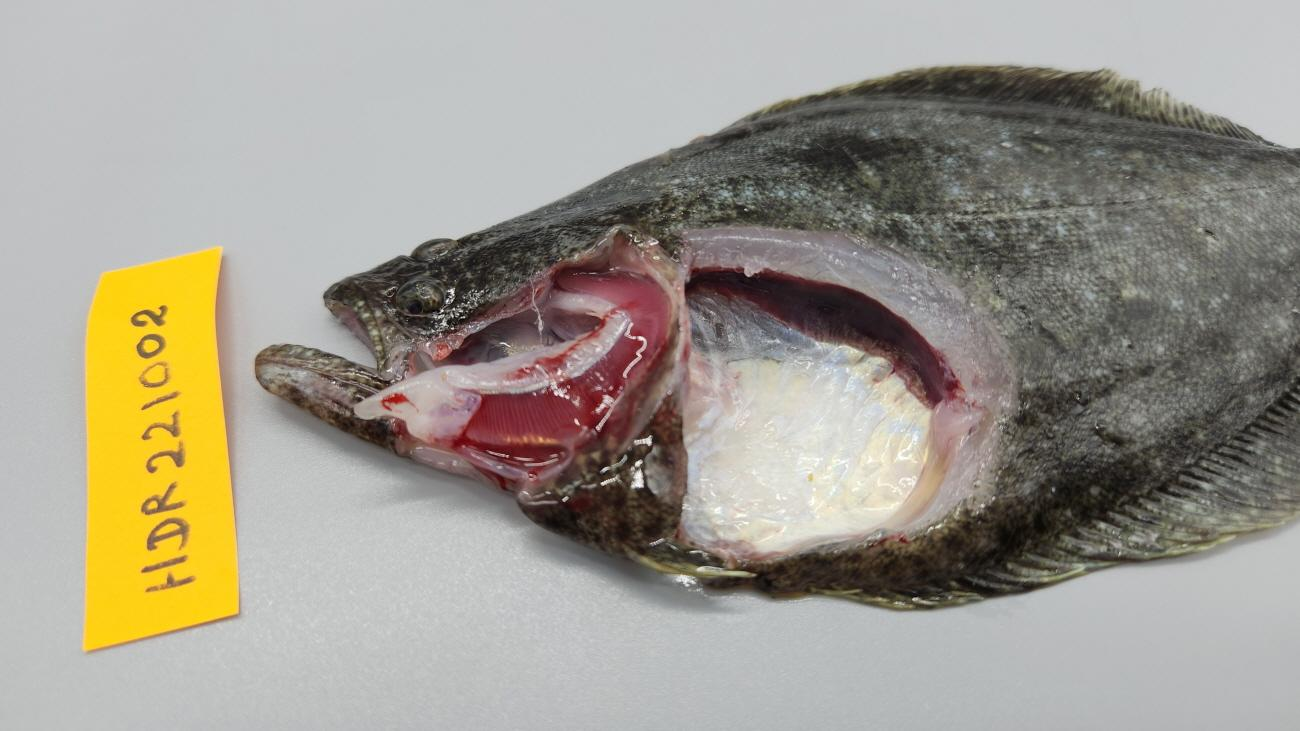POASN: (681, 288, 932, 561)
POKIN: (687, 268, 959, 408)
POREN: (854, 397, 985, 537)
